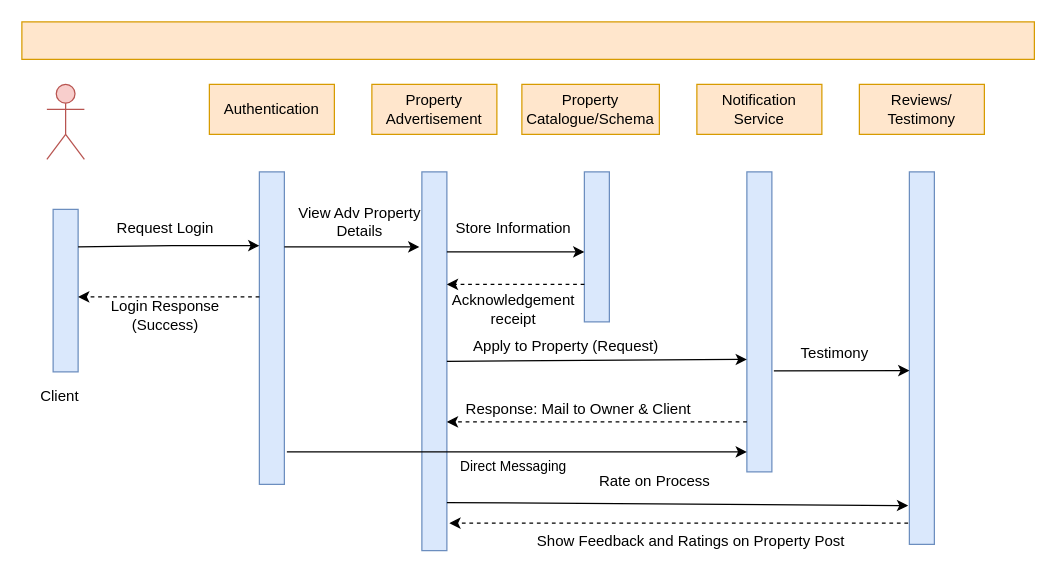
Image size: 1056x580. Some labels were removed from this diagram. Each missing label, with the box of its shape:
Actor: (46, 83, 84, 159)
Rental Accomodation Management System: (21, 21, 1034, 59)
